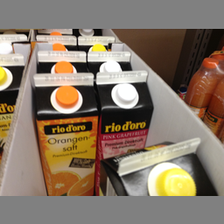juice: (31, 72, 94, 195), (95, 69, 155, 160)
